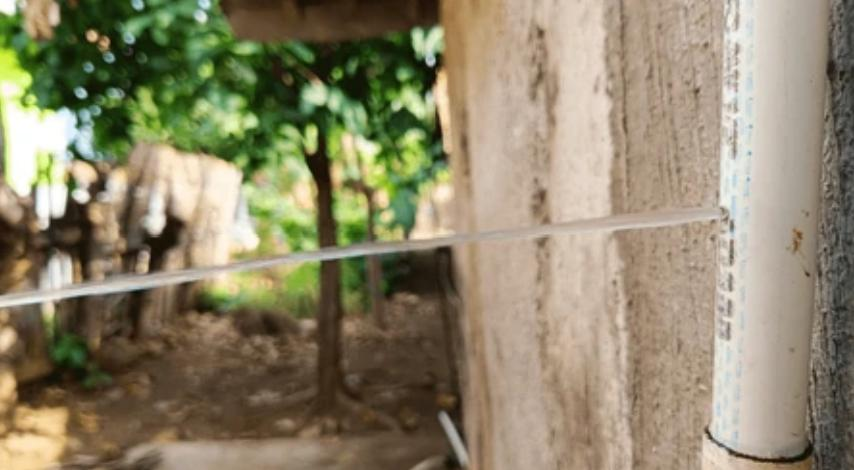pipe burst: (0, 202, 730, 310)
